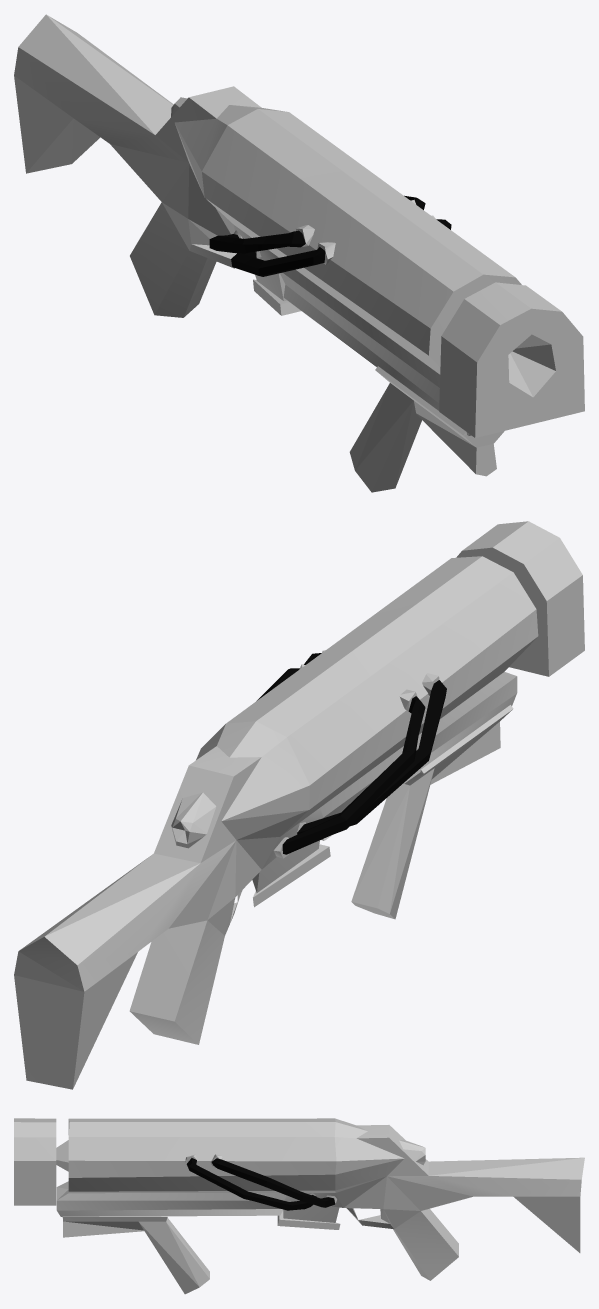
The model's file is test_shotgun.obj.
The picture shows the model from 3 angles, top to bottom: view 1: azimuth 30°, elevation 25°; view 2: azimuth 150°, elevation 25°; view 3: azimuth 270°, elevation 25°; orthographic projection. The views are drawn at different scales.
Parts seen in each view (by area): view 1: Cube.002, Cube.002_Cube.001; view 2: Cube.002, Cube.002_Cube.001; view 3: Cube.002, Cube.002_Cube.001.
Boxes of the visible parts, <box> form: Cube.002: <box>14,14,584,437</box>; Cube.002_Cube.001: <box>349,366,504,492</box>; Cube.002: <box>14,521,584,1089</box>; Cube.002_Cube.001: <box>351,705,513,919</box>; Cube.002: <box>14,1118,584,1280</box>; Cube.002_Cube.001: <box>62,1216,209,1294</box>.
Bounding box in the file's own units: 0.724 × 1.19 × 3.63.
